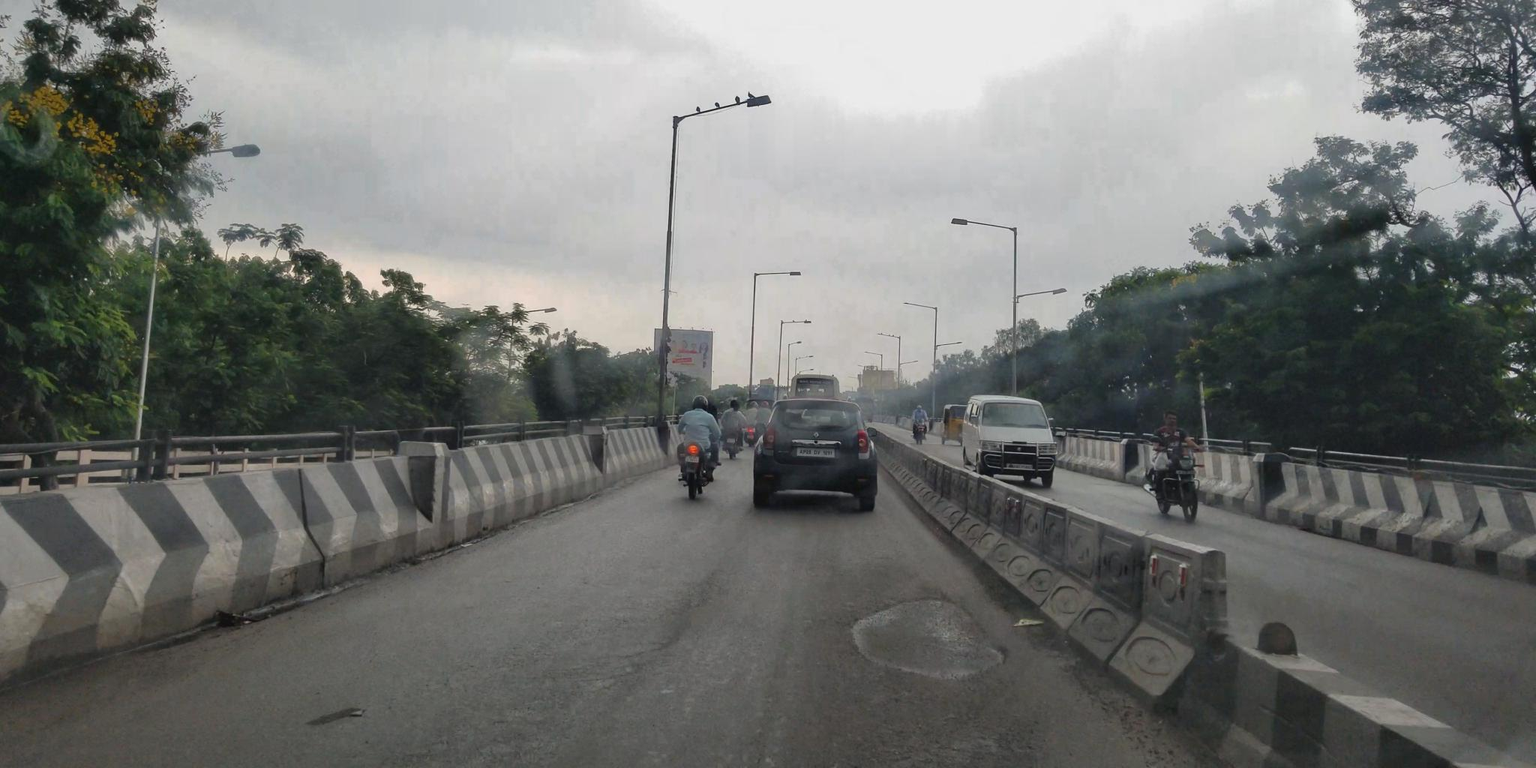streetlight: (668, 81, 778, 129), (174, 118, 273, 170), (944, 186, 1028, 240), (736, 250, 818, 287), (1010, 272, 1065, 307), (900, 292, 946, 324), (777, 298, 812, 331), (870, 319, 910, 342), (933, 324, 966, 347)
